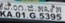character: (28, 11, 36, 19), (38, 11, 44, 20), (55, 12, 61, 21), (20, 11, 26, 19), (44, 12, 50, 20), (50, 12, 56, 20), (6, 10, 12, 17), (14, 11, 20, 18), (1, 9, 6, 17)
